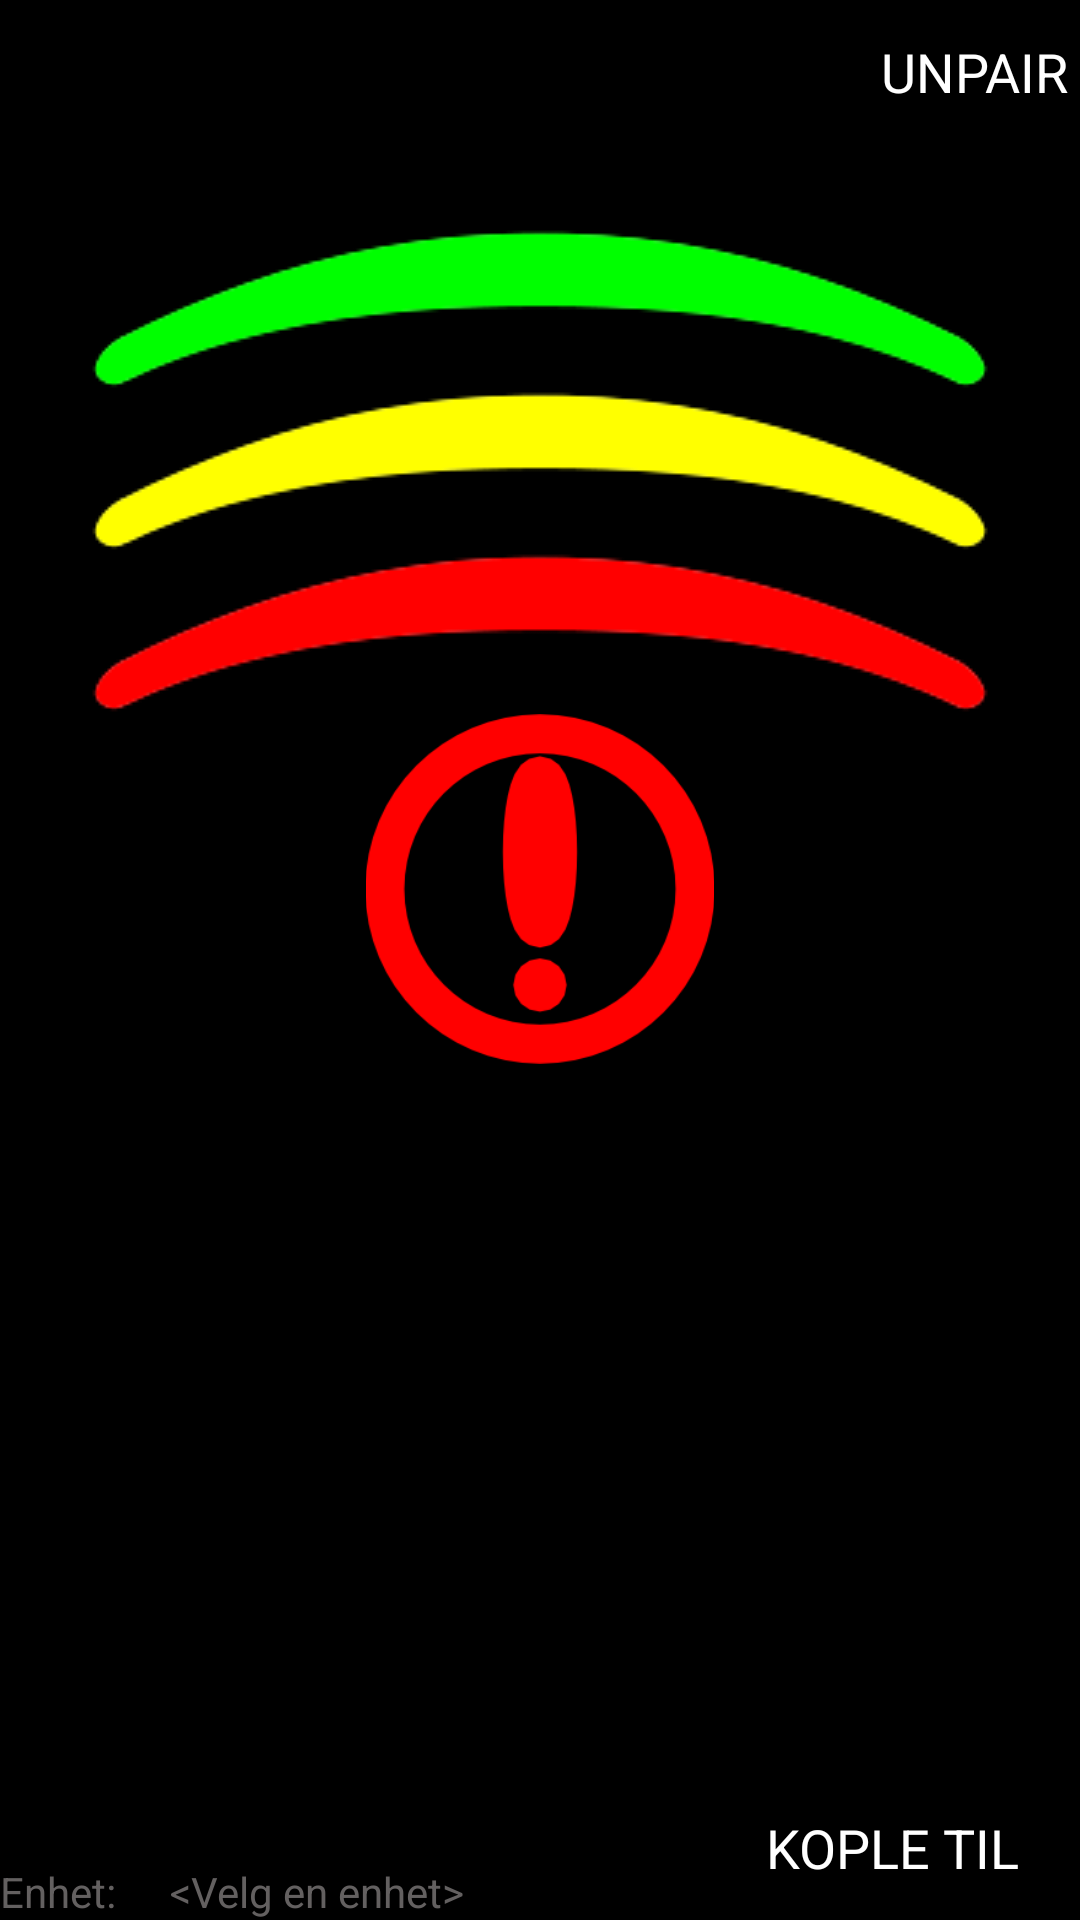

Icons on this 1080px x 1920px Android screen, each with the point to tap as point (x, y):
advarsel: point (540, 889)
